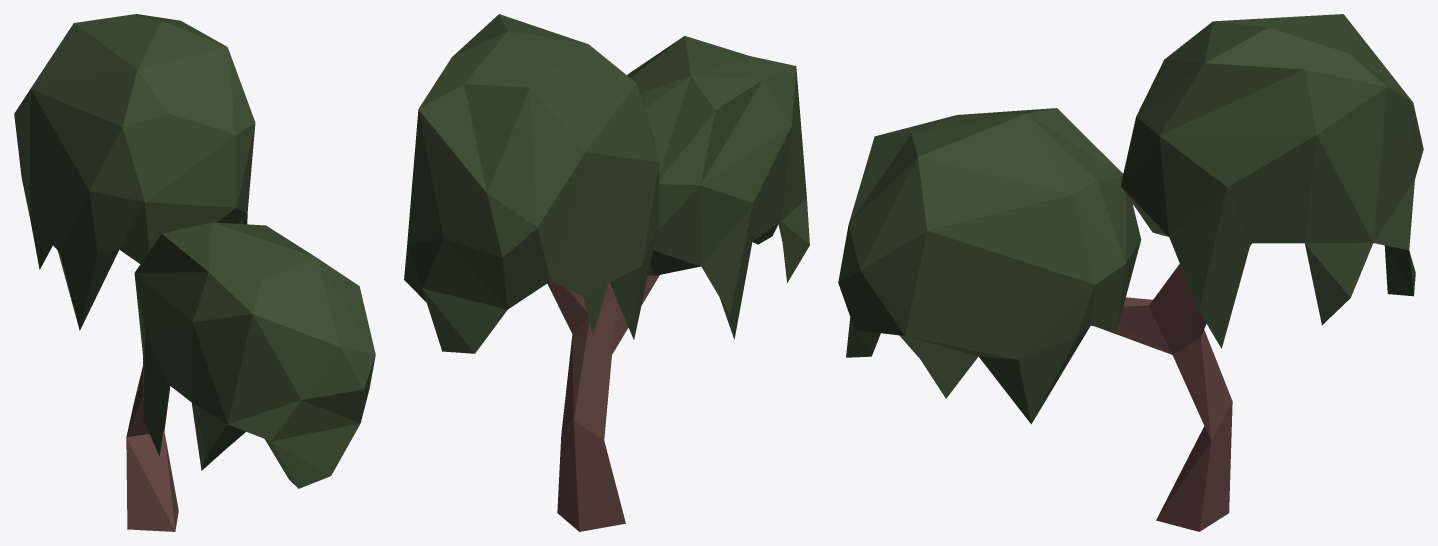
The model's file is willow-tree-5.gltf.
3 renders of one model, left to right at view 1: azimuth 30°, elevation 25°; view 2: azimuth 150°, elevation 25°; view 3: azimuth 270°, elevation 25°, orthographic. The views are drawn at different scales.
Visible parts, largest first — view 1: Willow_5_Cube.046; view 2: Willow_5_Cube.046; view 3: Willow_5_Cube.046.
Part boxes in pixels (<box>): Willow_5_Cube.046: <box>14,14,375,531</box>; Willow_5_Cube.046: <box>404,14,809,531</box>; Willow_5_Cube.046: <box>838,14,1423,531</box>.
Bounding box in the file's own units: 0.00999 × 0.0241 × 0.0249.
